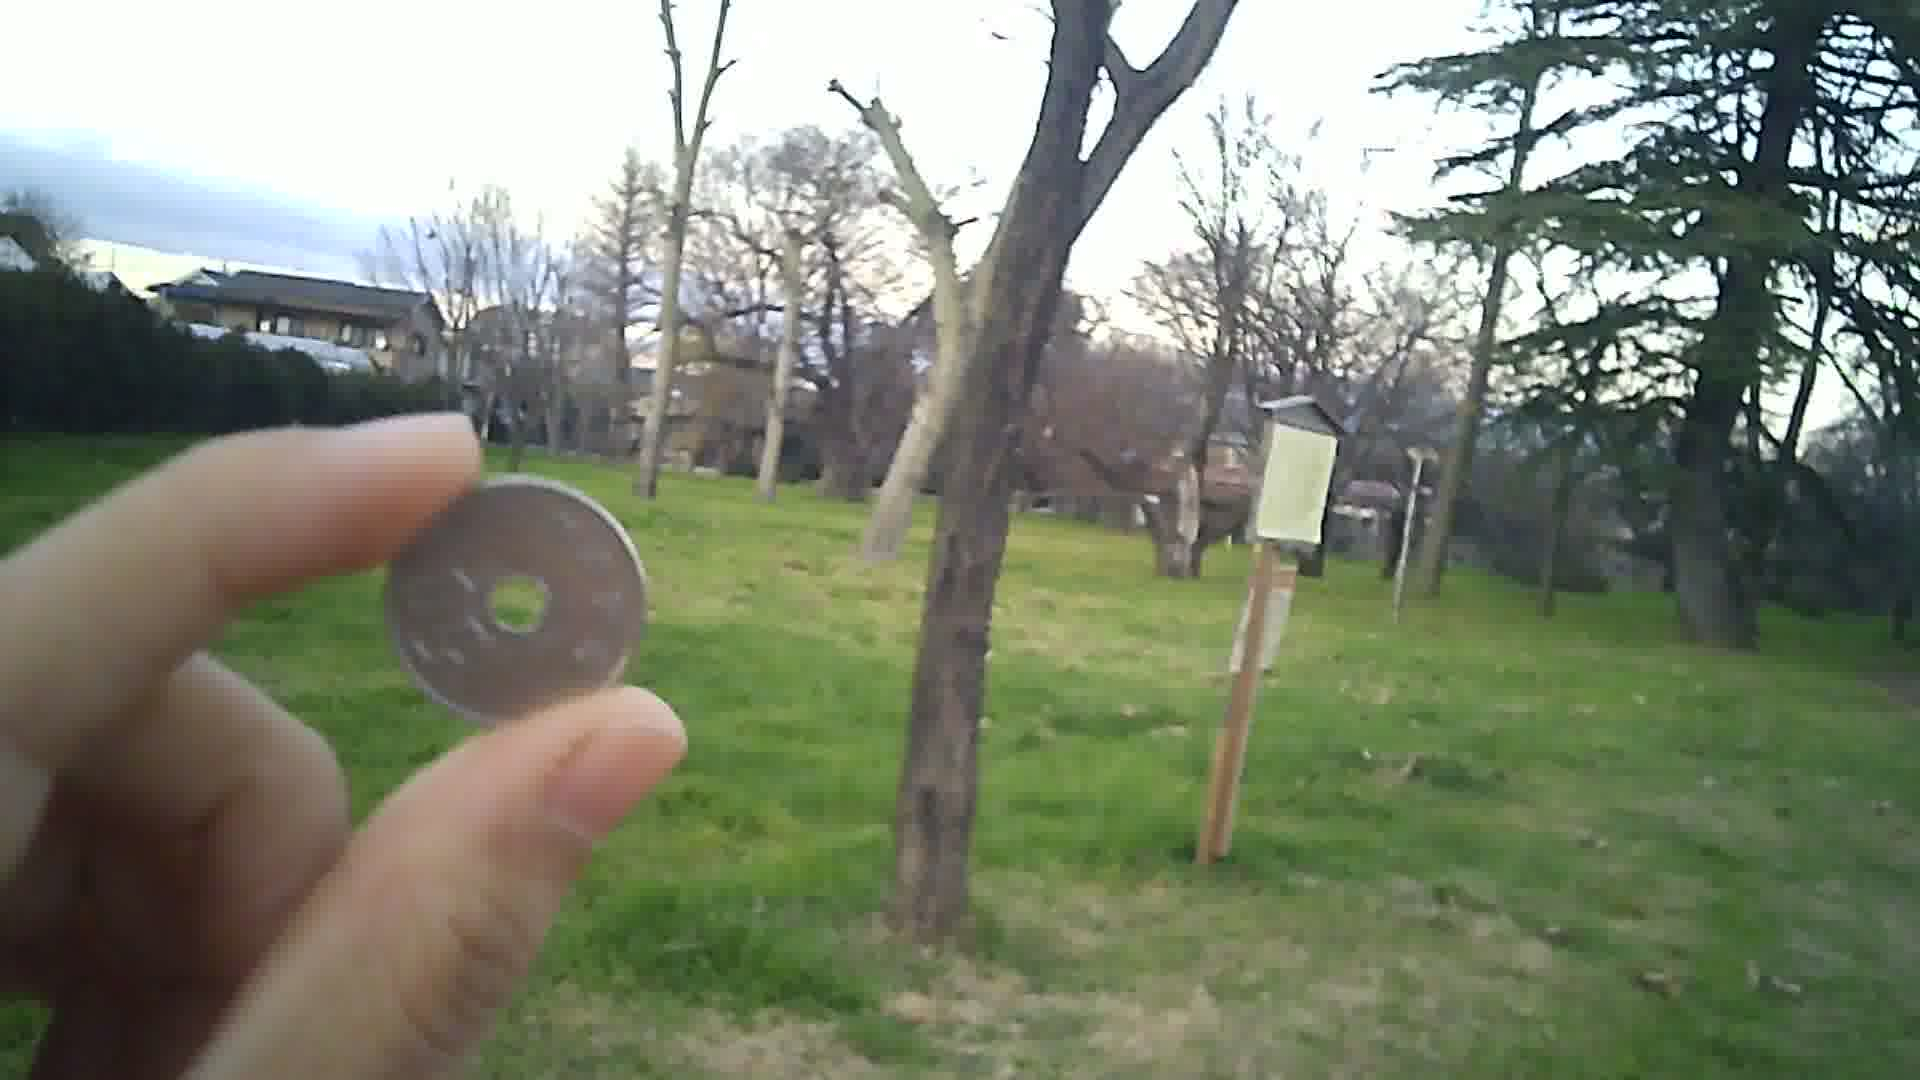50 Yen: (378, 463, 646, 723)
